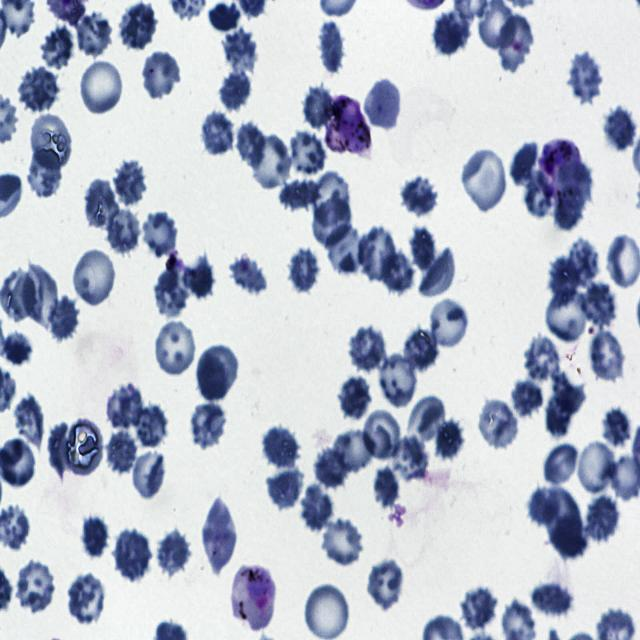difficult: (323, 94, 372, 157), (231, 563, 277, 630)
red blood cell: (461, 147, 508, 213), (200, 498, 240, 573), (78, 58, 125, 116), (71, 248, 117, 307), (304, 582, 350, 640), (546, 289, 592, 345), (12, 559, 58, 614), (542, 486, 582, 548), (248, 134, 292, 190), (31, 113, 73, 171), (476, 396, 520, 451), (65, 416, 105, 476), (356, 225, 398, 282), (326, 221, 368, 278), (577, 438, 618, 496), (196, 344, 240, 398), (547, 510, 591, 564), (376, 353, 419, 408), (153, 321, 195, 377), (428, 294, 470, 350), (312, 192, 354, 248), (82, 175, 121, 234), (66, 571, 107, 627), (22, 262, 58, 325), (128, 446, 168, 501), (314, 168, 352, 225), (320, 519, 366, 566), (586, 328, 626, 382), (366, 556, 406, 610), (408, 394, 448, 448), (364, 77, 403, 132), (362, 409, 402, 462), (17, 66, 61, 114), (332, 426, 376, 474), (496, 14, 532, 72), (140, 49, 180, 101), (154, 525, 194, 577), (114, 529, 152, 583), (458, 587, 501, 634), (117, 1, 157, 51), (391, 434, 431, 484), (585, 491, 623, 543), (568, 50, 606, 102), (418, 247, 455, 300), (526, 578, 576, 617), (75, 7, 112, 59), (347, 325, 387, 373), (190, 400, 230, 448), (220, 23, 259, 72), (104, 425, 140, 478), (262, 422, 300, 472), (600, 104, 638, 154), (430, 10, 471, 56), (200, 109, 238, 158), (521, 333, 559, 382), (544, 440, 581, 490), (113, 158, 150, 208), (551, 180, 586, 232), (547, 253, 581, 306), (401, 173, 441, 218), (14, 391, 44, 451), (152, 270, 191, 316), (316, 19, 348, 75), (402, 326, 440, 373), (299, 82, 336, 130), (106, 209, 146, 253), (105, 382, 144, 427), (27, 147, 61, 198), (287, 131, 327, 174), (278, 175, 324, 212), (236, 118, 266, 174), (142, 212, 180, 256), (580, 283, 618, 327), (182, 252, 216, 301), (314, 447, 351, 492), (568, 234, 600, 286), (283, 246, 319, 292), (267, 464, 303, 510), (523, 484, 562, 526), (560, 160, 594, 208), (47, 295, 81, 342), (380, 249, 415, 294), (228, 254, 267, 294), (508, 138, 540, 186), (134, 403, 168, 448), (301, 485, 335, 530), (553, 370, 586, 416), (80, 514, 112, 561), (434, 416, 466, 462), (600, 404, 632, 450), (544, 391, 575, 438), (523, 169, 552, 219), (40, 24, 74, 66), (340, 374, 371, 419), (48, 421, 70, 484), (219, 68, 251, 111), (409, 225, 437, 274), (511, 378, 544, 418), (373, 466, 403, 510), (3, 329, 33, 365), (207, 1, 241, 32)
trophozoite: (542, 137, 584, 198)
